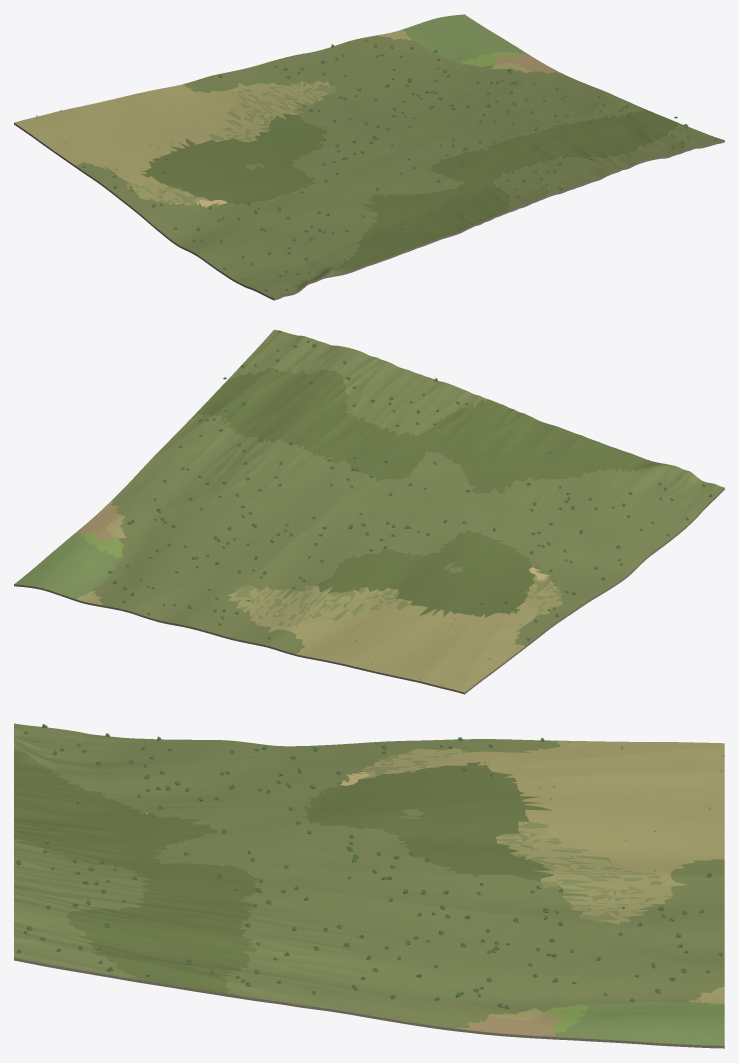
The model's file is parca_+5_-3-yakin.glb.
3 views of the same model, one above another, from view 1: azimuth 30°, elevation 25°; view 2: azimuth 150°, elevation 25°; view 3: azimuth 270°, elevation 25° (orthographic). The views are drawn at different scales.
Visible parts, largest first — view 1: parca_+5_-3_arazi, parca_+5_-3_bitkiler; view 2: parca_+5_-3_arazi, parca_+5_-3_bitkiler; view 3: parca_+5_-3_arazi, parca_+5_-3_bitkiler.
Part boxes in pixels (left/top/right/bottom): parca_+5_-3_arazi: left=14, top=14, right=724, bottom=300; parca_+5_-3_bitkiler: left=36, top=35, right=717, bottom=291; parca_+5_-3_arazi: left=14, top=329, right=724, bottom=694; parca_+5_-3_bitkiler: left=61, top=330, right=712, bottom=685; parca_+5_-3_arazi: left=14, top=723, right=724, bottom=1048; parca_+5_-3_bitkiler: left=15, top=724, right=724, bottom=1027.
Size of the model in its own units: 1004 by 148 by 1000.
